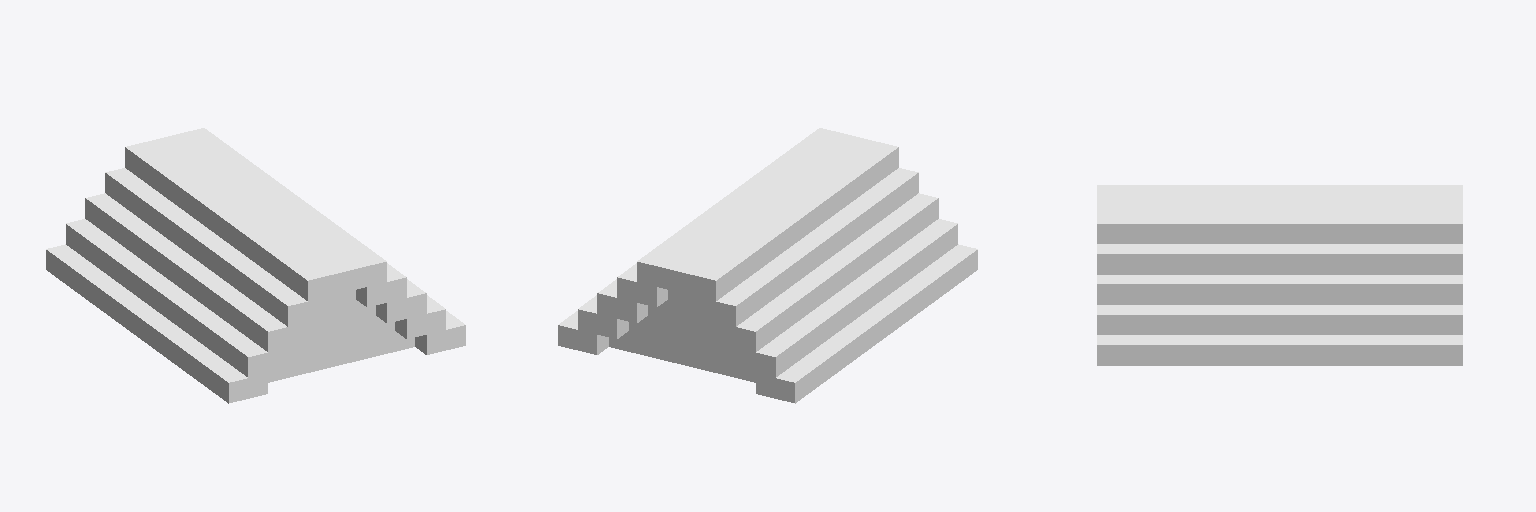
The model's file is treasure_top.obj.
3 views of the same model, side by side, from view 1: azimuth 30°, elevation 25°; view 2: azimuth 150°, elevation 25°; view 3: azimuth 270°, elevation 25° (orthographic).
Visible parts, largest first — view 1: object 1; view 2: object 1; view 3: object 1.
Boxes of the visible parts, x1,y1,x2,y2 form: object 1: [46, 128, 465, 403]; object 1: [558, 128, 977, 403]; object 1: [1097, 185, 1462, 365].
Bounding box in the file's own units: 1.2 × 0.5 × 1.6.